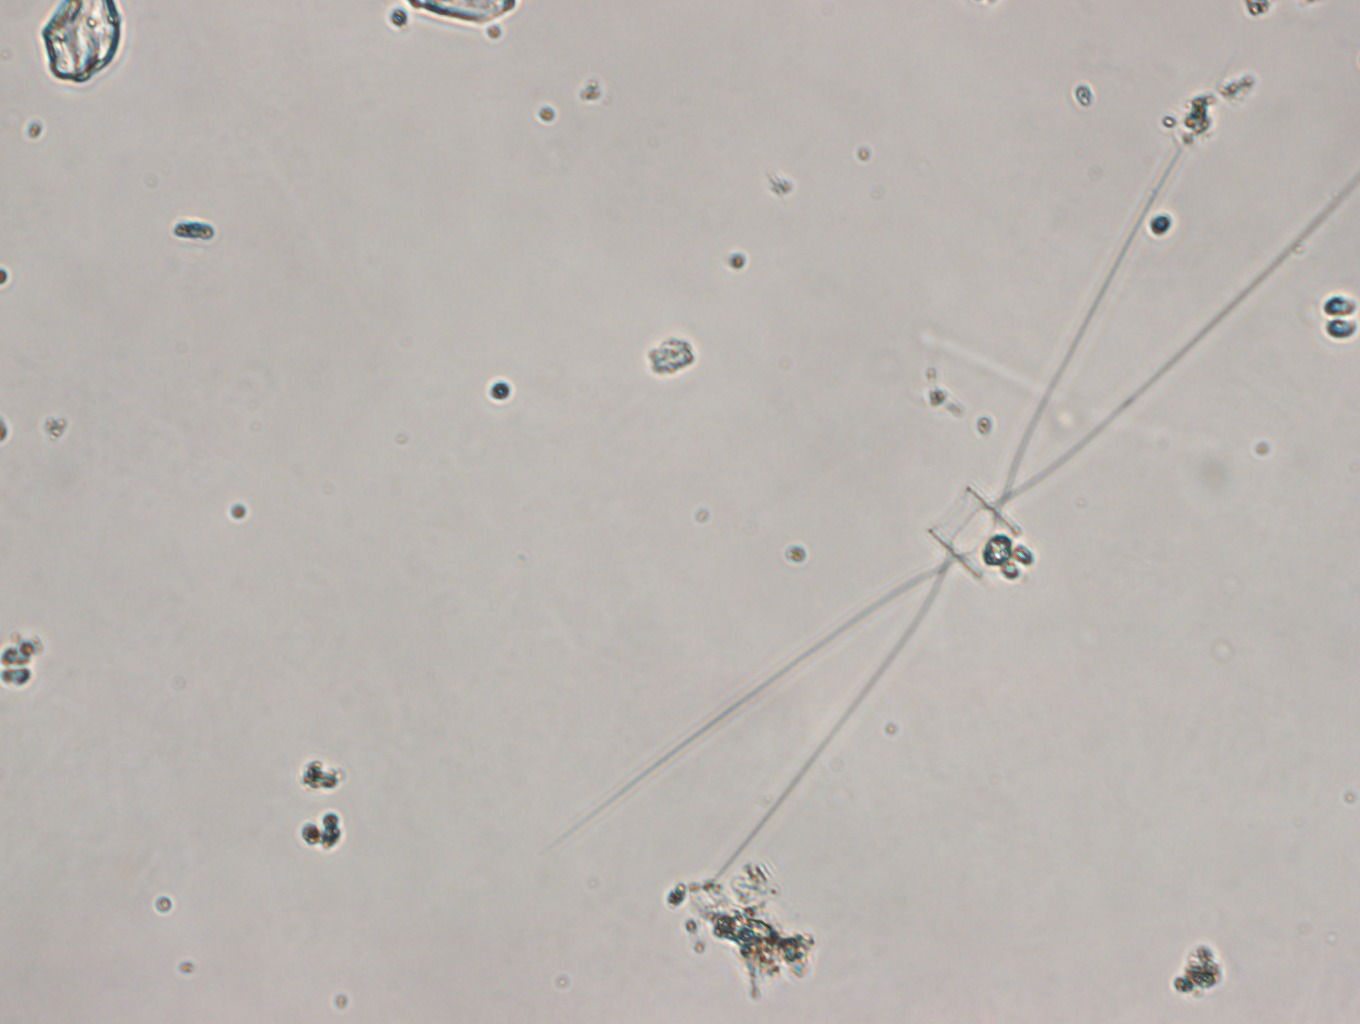chaetoceros: (578, 141, 1360, 887)
